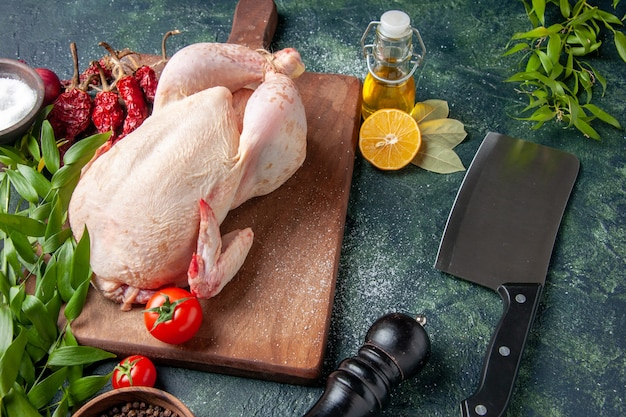knife: (429, 127, 582, 417)
